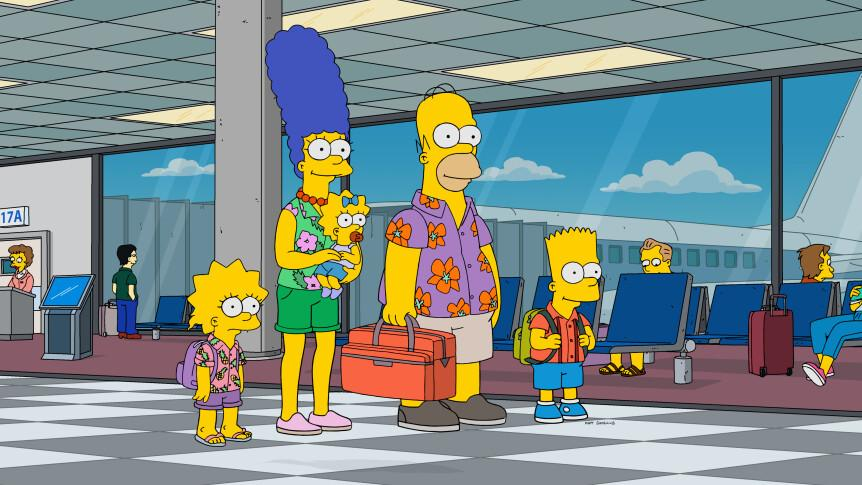Bart: (509, 225, 627, 421)
Homer: (395, 73, 517, 434)
Lisa: (186, 240, 269, 449)
Maggie: (305, 176, 387, 314)
Marge: (238, 11, 376, 445)
